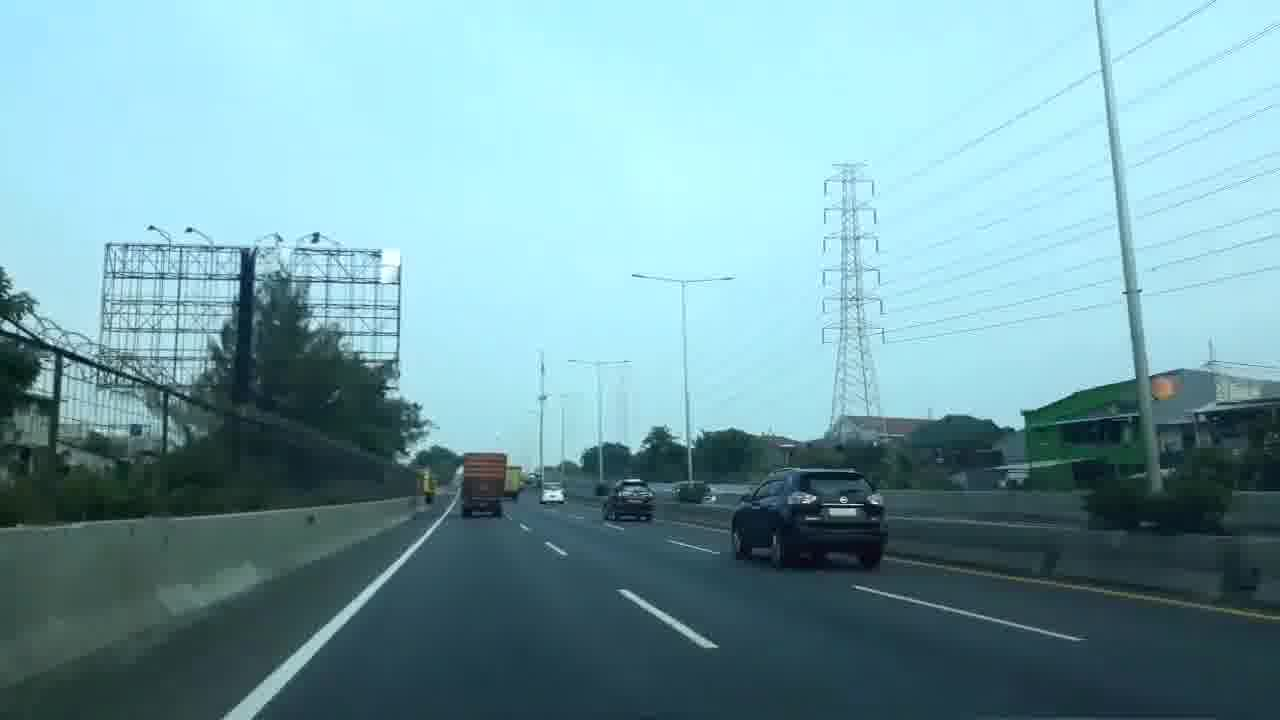plate_positive: (829, 507, 857, 517)
